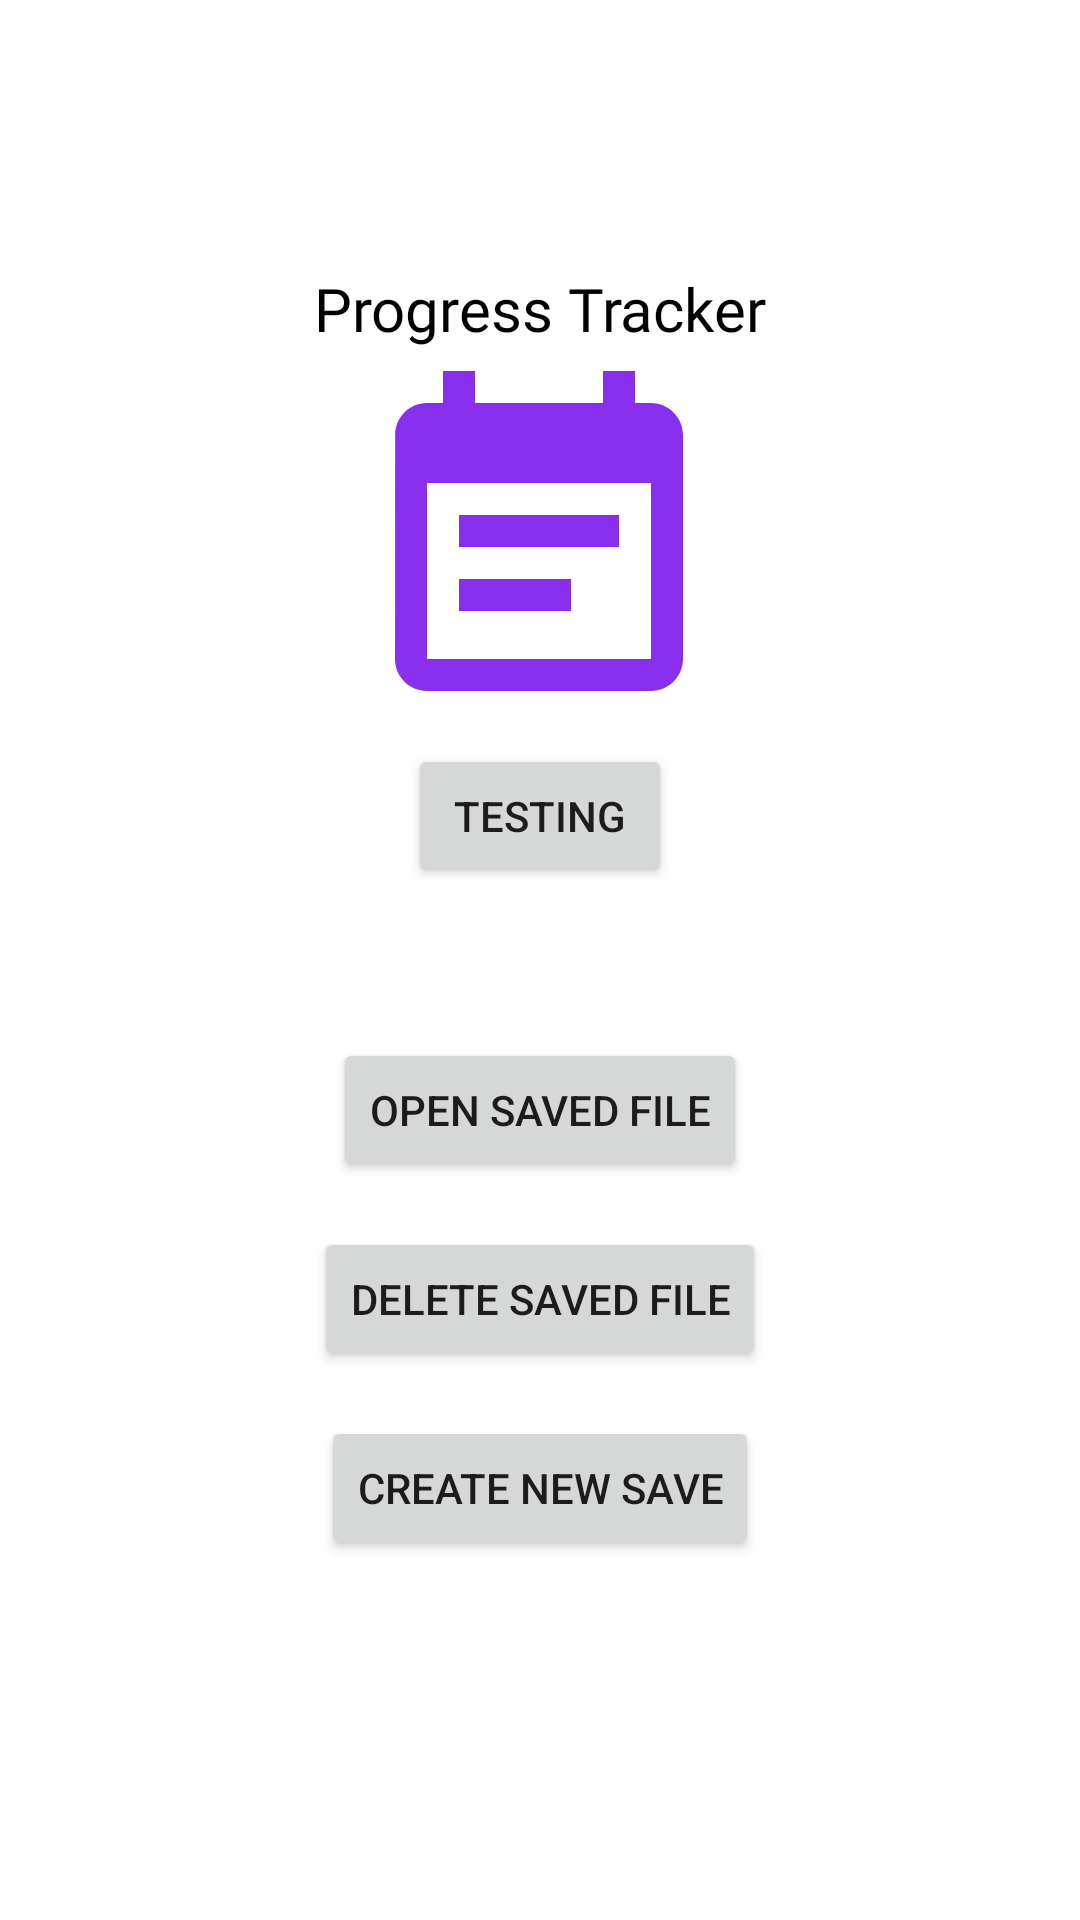

Screen size 1080 × 1920. Icon name, then its center in pixels as (x=x, y=y):
event note: (x=539, y=531)
